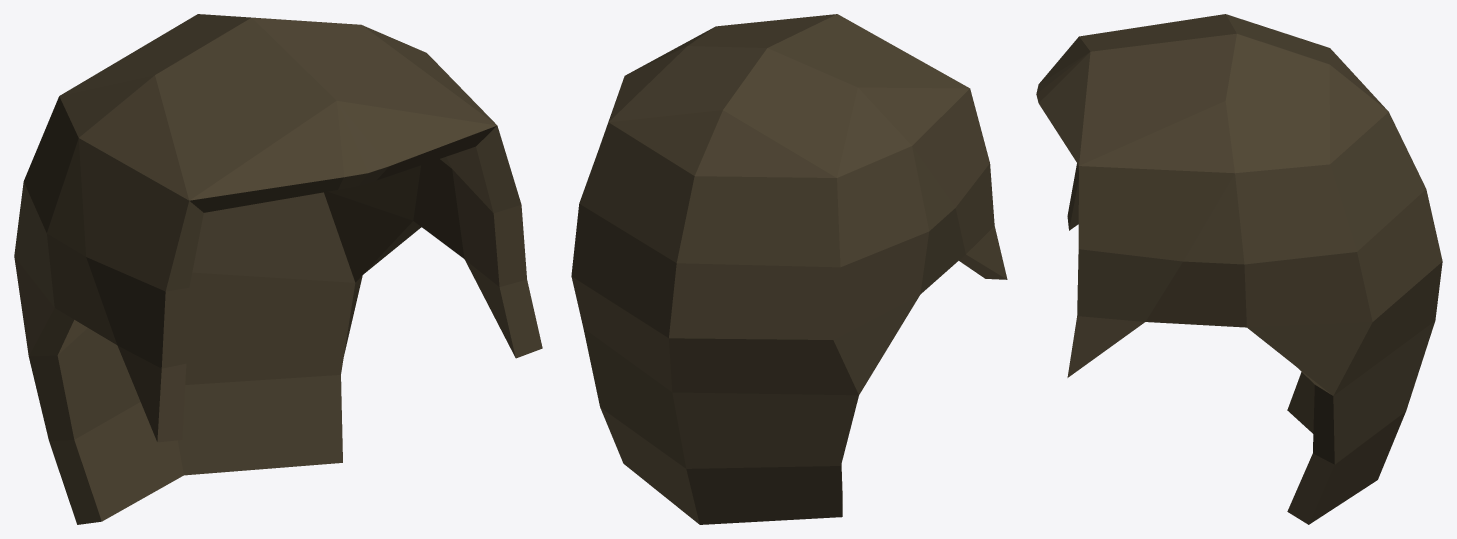
File: male-hairstyle-1.glb
3 renders of one model, left to right at view 1: azimuth 30°, elevation 25°; view 2: azimuth 150°, elevation 25°; view 3: azimuth 270°, elevation 25°, orthographic. The views are drawn at different scales.
Visible parts, largest first — view 1: Male_Hairstyle_1; view 2: Male_Hairstyle_1; view 3: Male_Hairstyle_1.
Part boxes in pixels (x1,y1,x2,y2): Male_Hairstyle_1: (14, 14, 542, 524); Male_Hairstyle_1: (571, 14, 1007, 524); Male_Hairstyle_1: (1036, 14, 1442, 524).
Bounding box in the file's own units: 0.5025 × 0.6203 × 0.5118.
